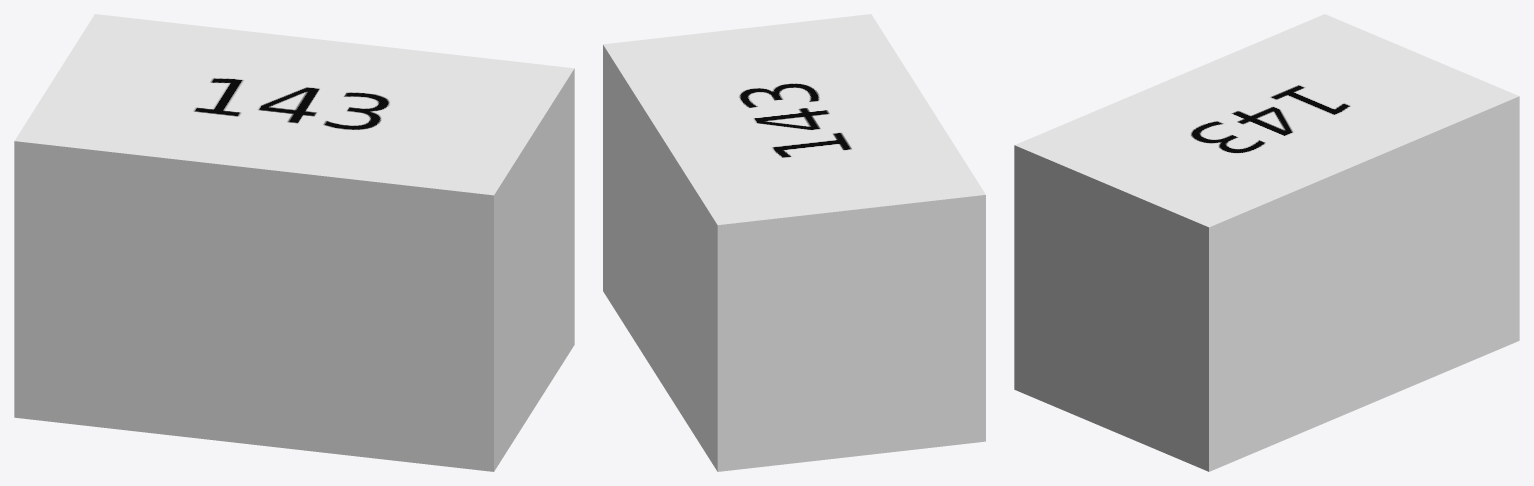
The model's file is Stand143.glb.
3 renders of one model, left to right at view 1: azimuth 30°, elevation 25°; view 2: azimuth 150°, elevation 25°; view 3: azimuth 270°, elevation 25°, orthographic. The views are drawn at different scales.
Visible parts, largest first — view 1: 143; view 2: 143; view 3: 143.
Boxes of the visible parts, x1,y1,x2,y2 form: 143: (14,14,574,471); 143: (603,14,985,471); 143: (1014,14,1519,471).
Bounding box in the file's own units: 0.2808 × 0.15 × 0.2808.
Materials: 1 (1 with a texture image).
